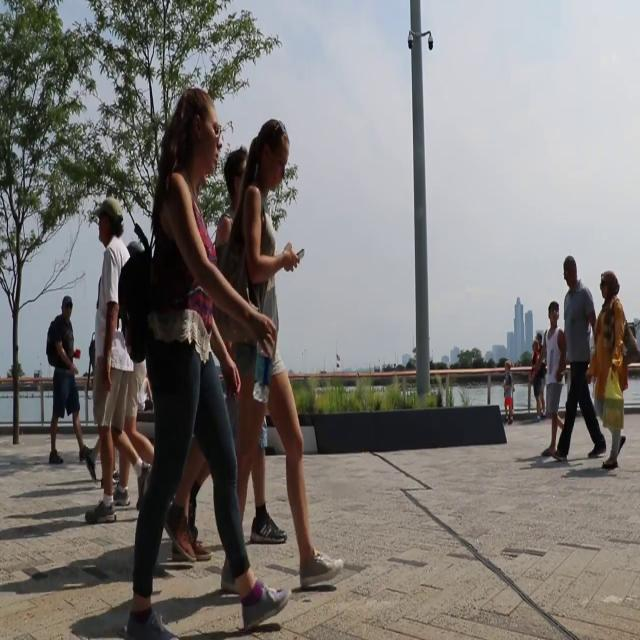normal: (128, 83, 284, 632), (44, 293, 90, 467), (541, 297, 569, 468)
